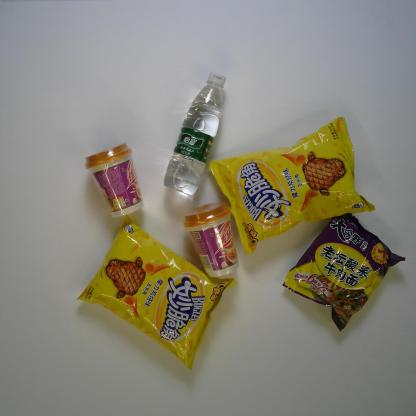Drink: (163, 71, 227, 199)
Instant Drink: (83, 141, 146, 220), (182, 199, 241, 280)
Instant Noodles: (280, 212, 406, 334)
Puffed Food: (75, 213, 237, 372), (206, 114, 377, 257)
